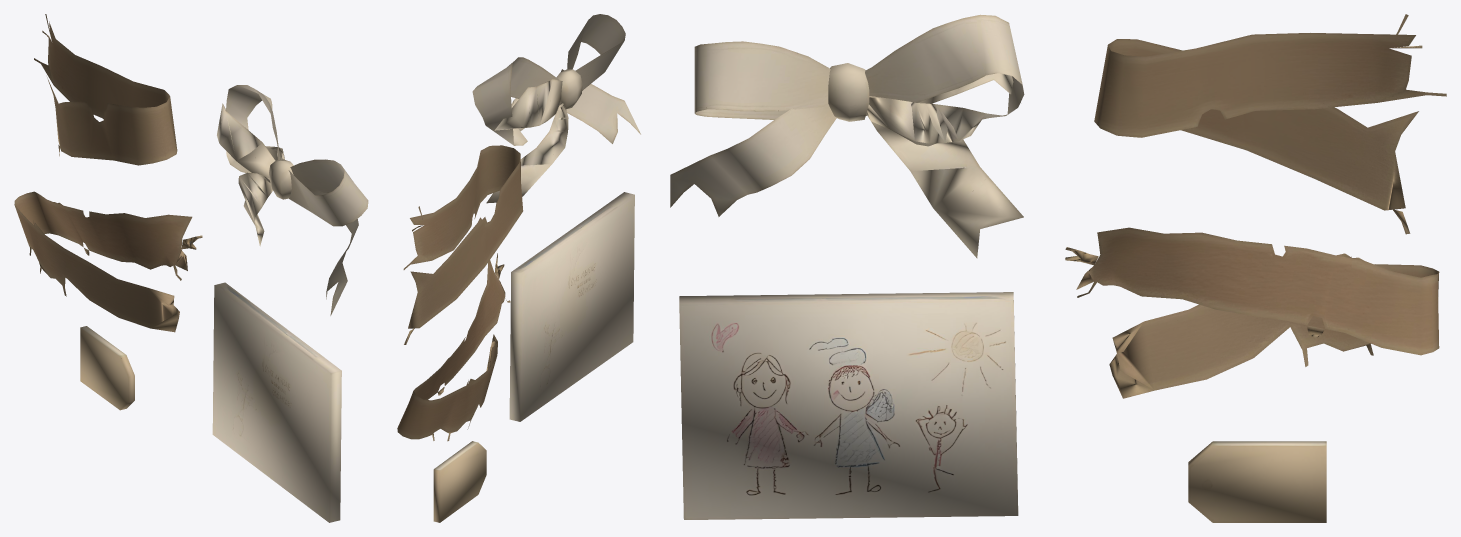
The model's file is Flower Pieces.fbx.
3 renders of one model, left to right at view 1: azimuth 30°, elevation 25°; view 2: azimuth 150°, elevation 25°; view 3: azimuth 270°, elevation 25°, orthographic. The views are drawn at different scales.
Visible parts, largest first — view 1: tripo_node_a8537391-c19c-4caf-9248-ffe69c6723b1; view 2: tripo_node_a8537391-c19c-4caf-9248-ffe69c6723b1; view 3: tripo_node_a8537391-c19c-4caf-9248-ffe69c6723b1.
Boxes of the visible parts, box(x1,y1,x2,y2) form: tripo_node_a8537391-c19c-4caf-9248-ffe69c6723b1: box(14, 14, 368, 522); tripo_node_a8537391-c19c-4caf-9248-ffe69c6723b1: box(397, 14, 640, 522); tripo_node_a8537391-c19c-4caf-9248-ffe69c6723b1: box(670, 14, 1446, 522).
Size of the model in its own units: 24.8 by 75.98 by 99.8.
Materials: 1 (1 with a texture image).
